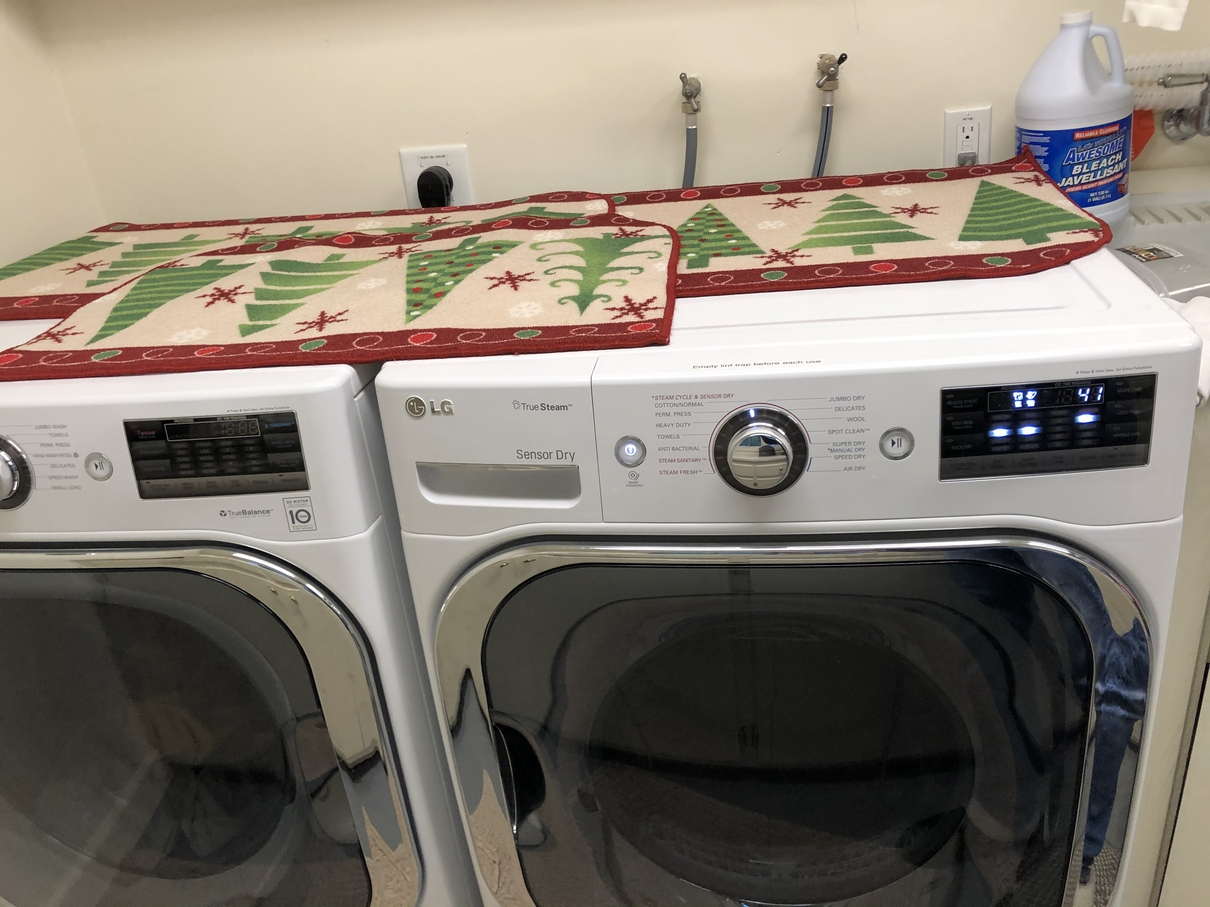status: (976, 377, 1107, 417)
